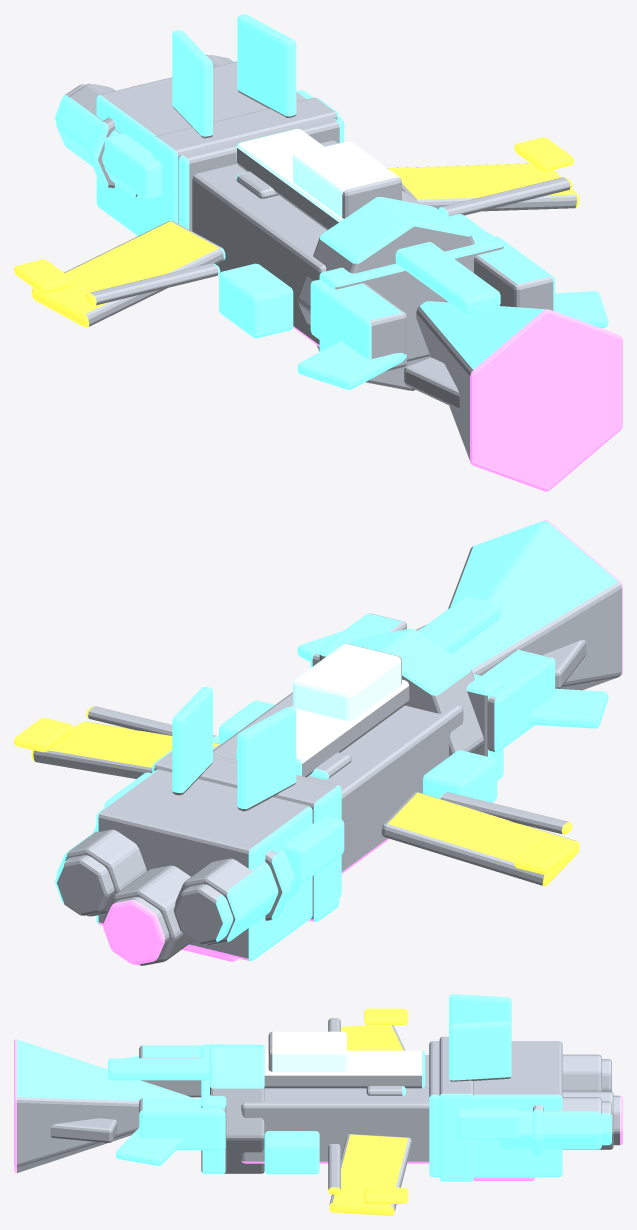
Rendered from Ship_Complete_Upgrade01.fbx.
3 renders of one model, top to bottom at view 1: azimuth 30°, elevation 25°; view 2: azimuth 150°, elevation 25°; view 3: azimuth 270°, elevation 25°, orthographic. The views are drawn at different scales.
Visible parts, largest first — view 1: Ship_Nose_Upgrade01, Ship_Body, Ship_Engine_Upgrade01; view 2: Ship_Engine_Upgrade01, Ship_Body, Ship_Nose_Upgrade01; view 3: Ship_Body, Ship_Nose_Upgrade01, Ship_Engine_Upgrade01.
Boxes of the visible parts, box(x1,y1,x2,y2) form: Ship_Nose_Upgrade01: box(297, 197, 622, 491); Ship_Body: box(14, 128, 579, 346); Ship_Engine_Upgrade01: box(55, 14, 344, 235); Ship_Engine_Upgrade01: box(55, 686, 344, 965); Ship_Body: box(14, 643, 579, 885); Ship_Nose_Upgrade01: box(297, 520, 622, 780); Ship_Body: box(241, 1008, 429, 1215); Ship_Nose_Upgrade01: box(14, 1039, 264, 1173); Ship_Engine_Upgrade01: box(429, 994, 622, 1181).
Size of the model in its own units: 2.88 by 1.15 by 3.88.
